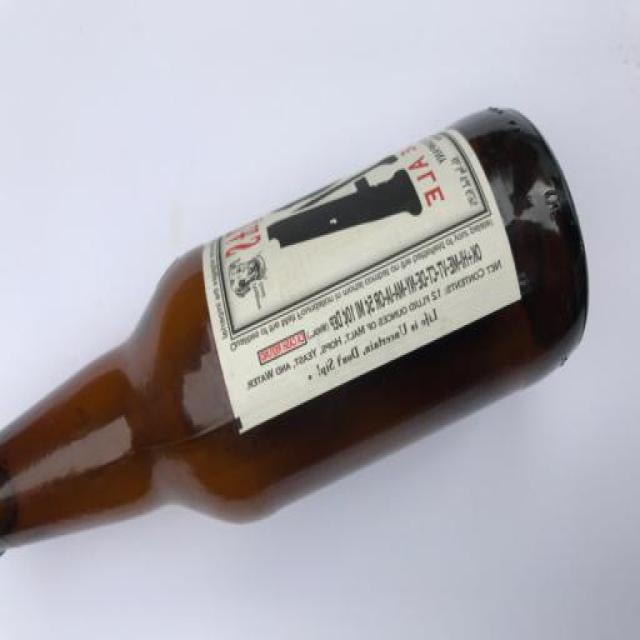glass: (0, 103, 588, 565)
